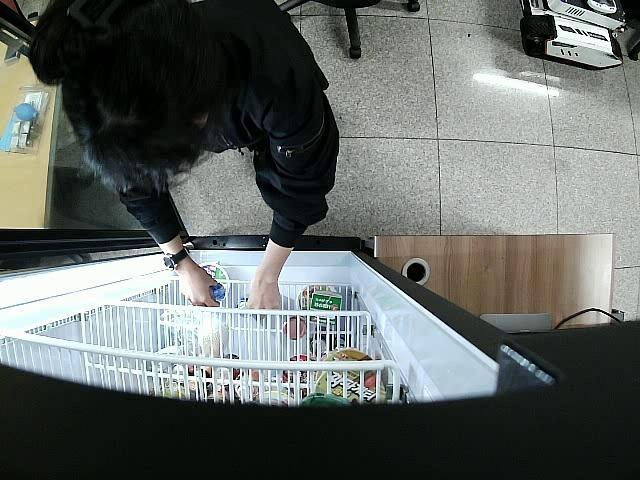15_letsbe: (210, 283, 226, 301)
